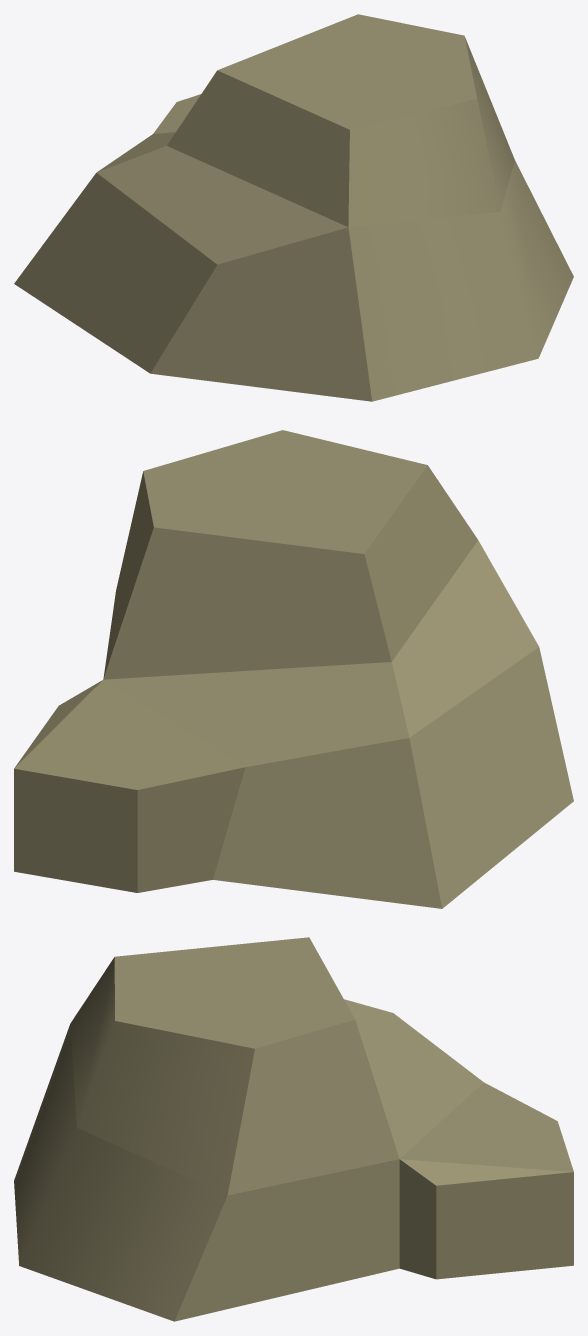
Rendered from Rock1_SM.fbx.
3 renders of one model, top to bottom at view 1: azimuth 30°, elevation 25°; view 2: azimuth 150°, elevation 25°; view 3: azimuth 270°, elevation 25°, orthographic. The views are drawn at different scales.
Visible parts, largest first — view 1: Rock1_SM; view 2: Rock1_SM; view 3: Rock1_SM.
Part boxes in pixels (left/top/right/bottom): Rock1_SM: left=14, top=14, right=573, bottom=401; Rock1_SM: left=14, top=430, right=573, bottom=908; Rock1_SM: left=14, top=937, right=573, bottom=1321.
Bounding box in the file's own units: 180 × 92.53 × 198.
